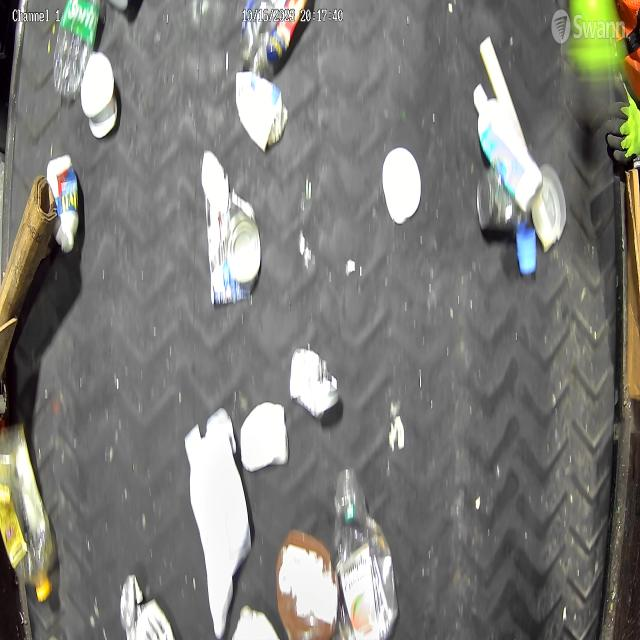can: (205, 166, 262, 304), (476, 167, 530, 234)
non_white_jug: (335, 466, 400, 640)
plastic_bottle: (0, 422, 56, 602), (54, 0, 100, 102)
